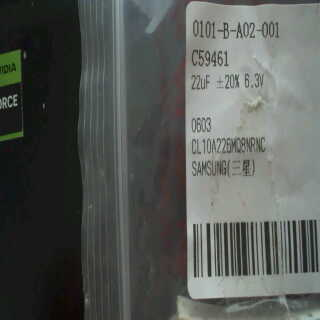22uF: (189, 71, 212, 91)
